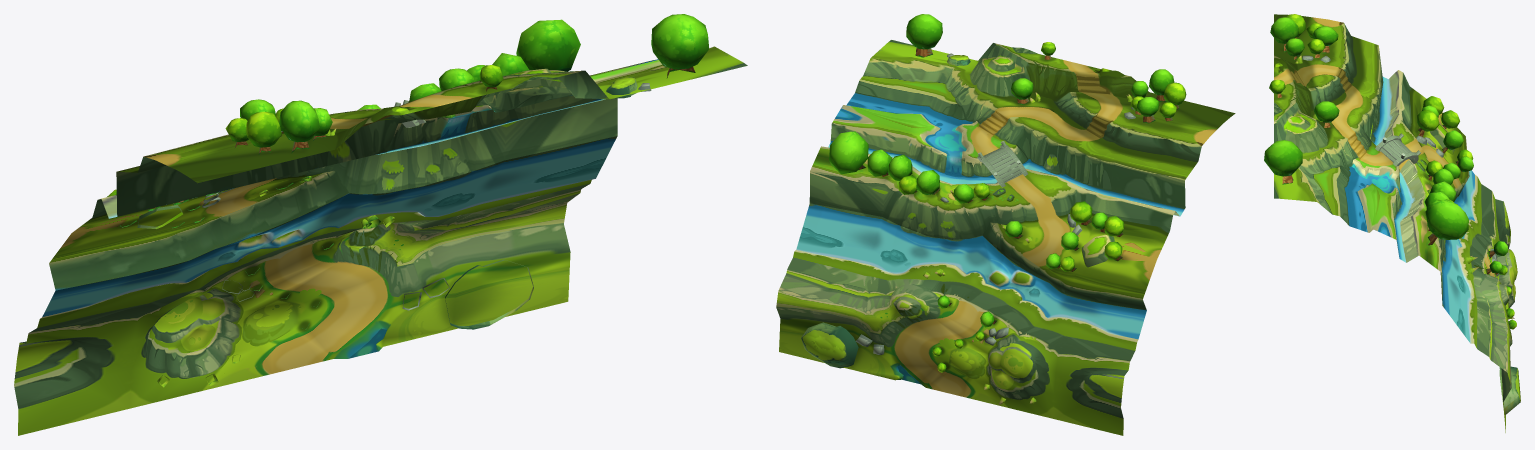
The model's file is Chapter2Model3.FBX.
The picture shows the model from 3 angles, left to right: view 1: azimuth 30°, elevation 25°; view 2: azimuth 150°, elevation 25°; view 3: azimuth 270°, elevation 25°; orthographic projection. The views are drawn at different scales.
Visible parts, largest first — view 1: Chapter2Model3Model1, Chapter2Model3Model4, Chapter2Model3Model2; view 2: Chapter2Model3Model1, Chapter2Model3Model4, Chapter2Model3Model2, Chapter2Model3Model5; view 3: Chapter2Model3Model1, Chapter2Model3Model4, Chapter2Model3Model2, Chapter2Model3Model5.
Part boxes in pixels (<box>): Chapter2Model3Model1: <box>14,46,747,435</box>; Chapter2Model3Model4: <box>107,14,709,329</box>; Chapter2Model3Model2: <box>137,77,651,387</box>; Chapter2Model3Model1: <box>776,40,1235,435</box>; Chapter2Model3Model4: <box>829,14,1186,372</box>; Chapter2Model3Model2: <box>801,53,1135,404</box>; Chapter2Model3Model5: <box>977,141,1027,187</box>; Chapter2Model3Model1: <box>1274,14,1517,432</box>; Chapter2Model3Model4: <box>1264,14,1516,329</box>; Chapter2Model3Model2: <box>1295,55,1520,414</box>; Chapter2Model3Model5: <box>1375,133,1420,166</box>.
Size of the model in its own units: 974 by 610 by 738.
